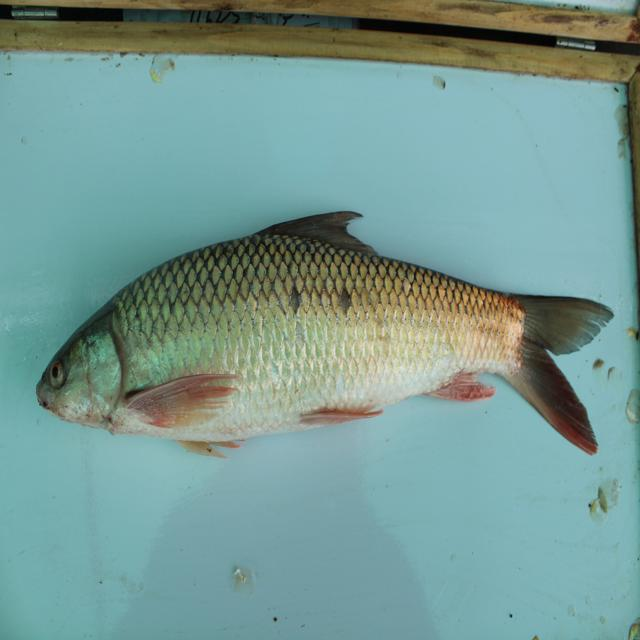Mori: (31, 196, 625, 473)
